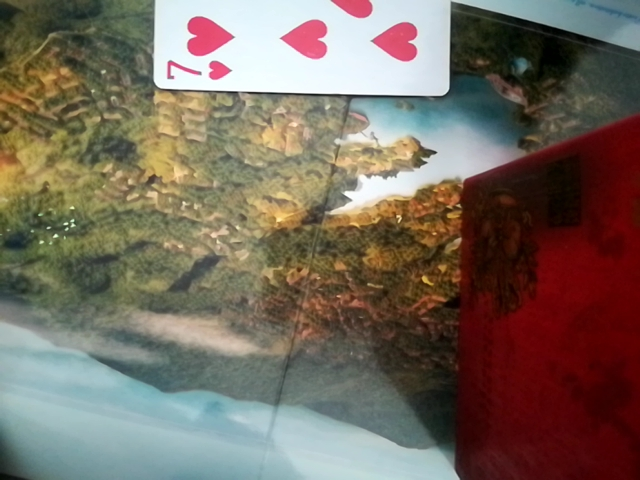hx 7: (139, 5, 449, 95)
